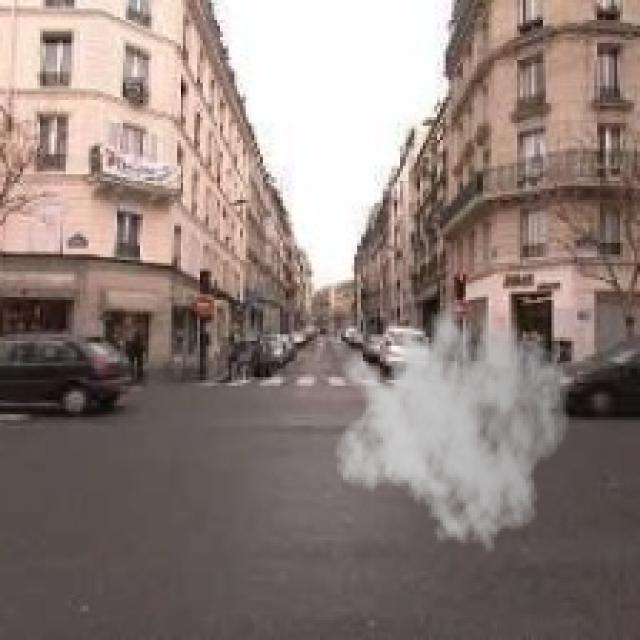smoke: (334, 277, 572, 554)
